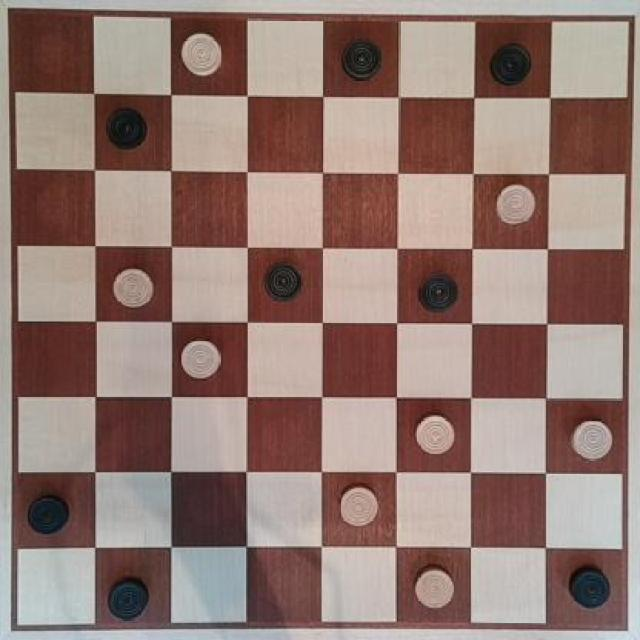BOARD: (14, 12, 627, 630)
black: (328, 34, 394, 88), (102, 100, 158, 158), (482, 38, 540, 94), (254, 255, 310, 312), (559, 560, 614, 616), (21, 485, 74, 543), (103, 568, 155, 622), (413, 267, 462, 319)
white: (97, 257, 162, 318), (404, 401, 456, 467), (479, 176, 542, 230), (175, 330, 229, 390), (178, 23, 231, 83), (407, 562, 461, 610), (564, 415, 612, 467), (335, 479, 383, 529)
